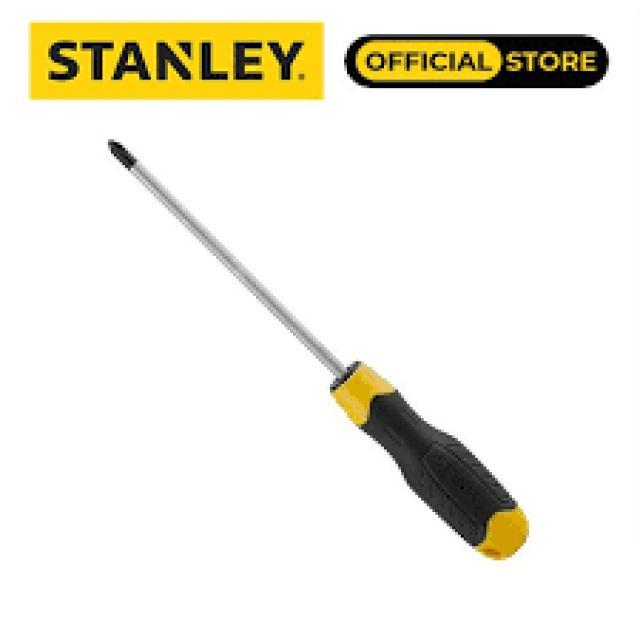screwdriver: (92, 132, 539, 570)
